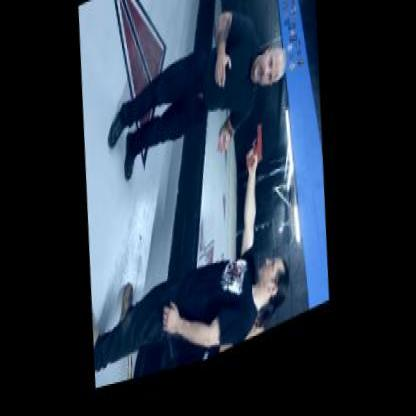pistol: (244, 137, 265, 183)
